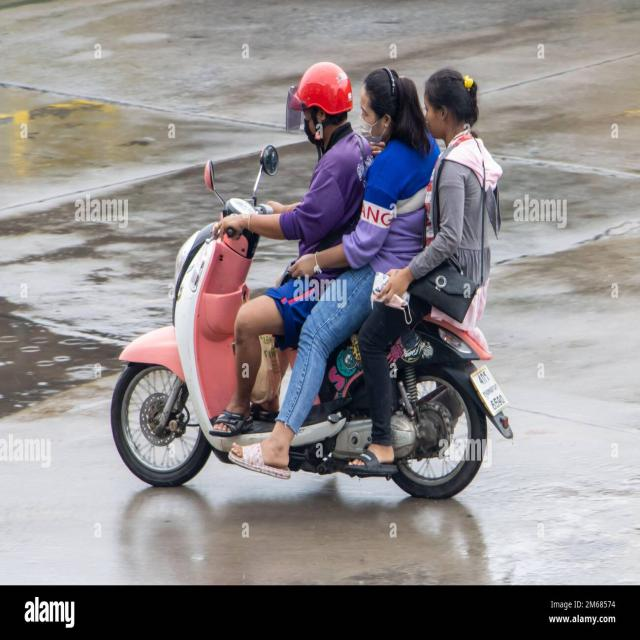Triple Riding: (198, 80, 545, 433)
